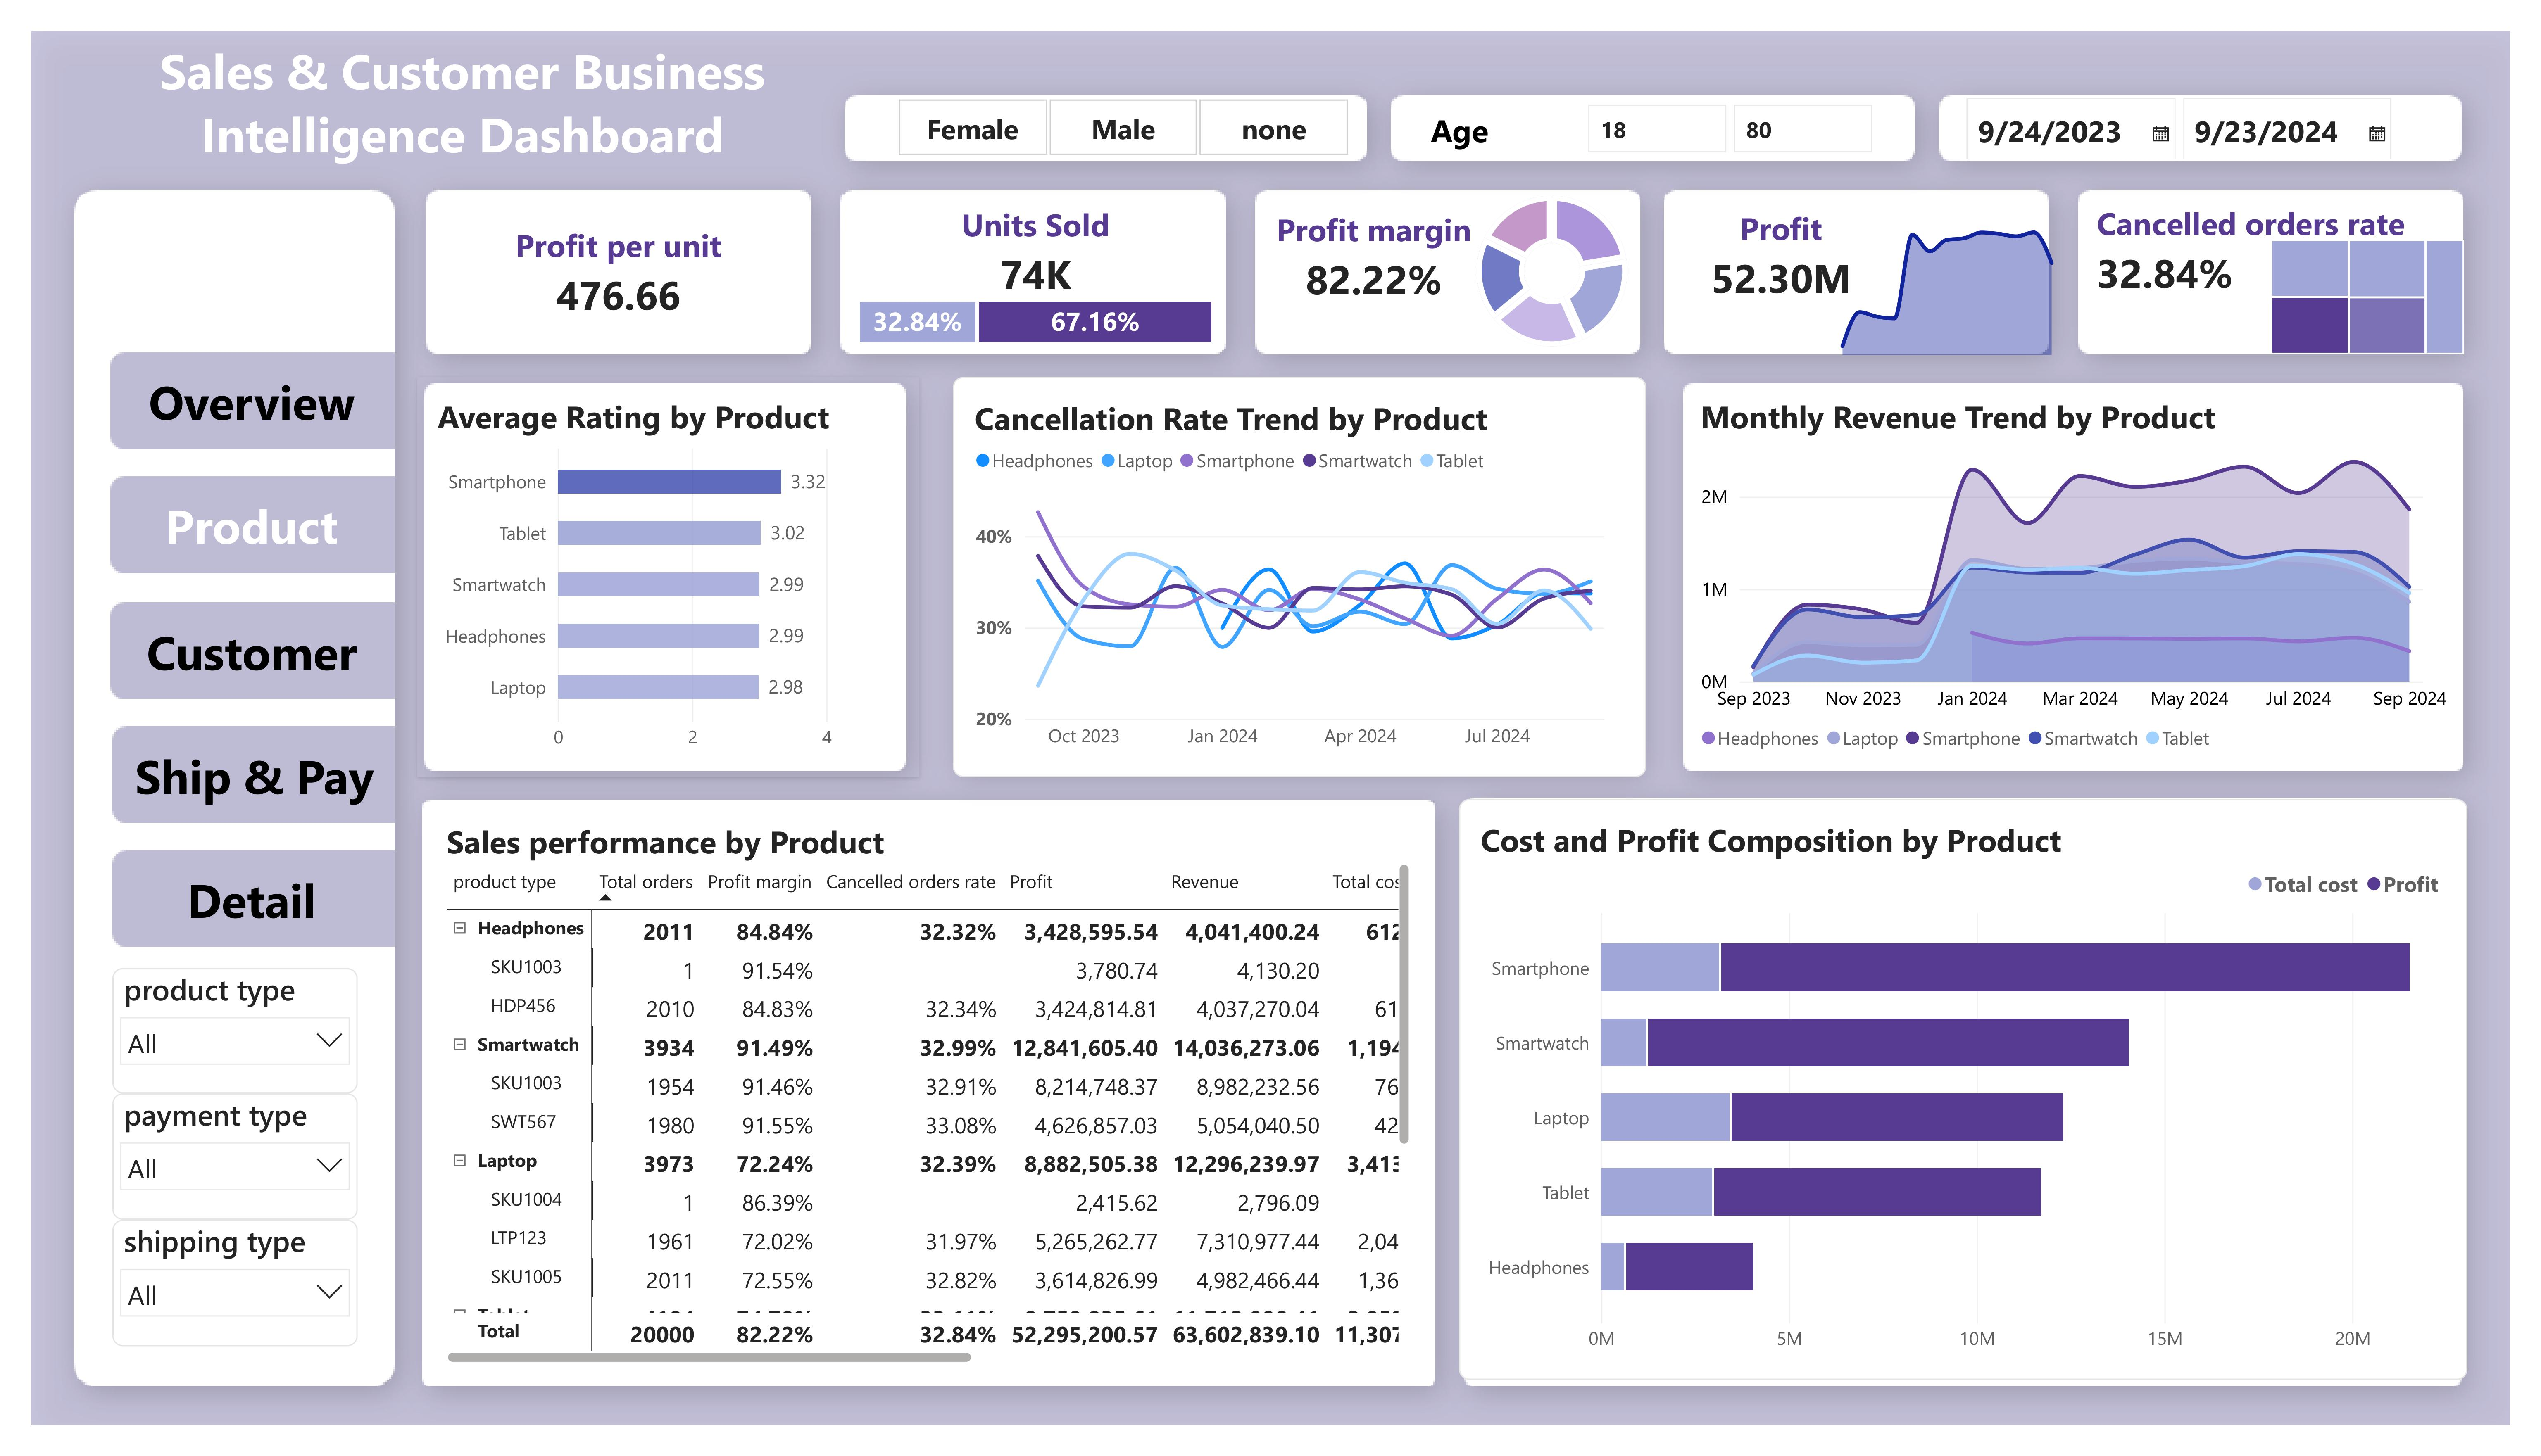

The dashboard page shown, as its layout file describes it:
{"tool":"powerbi","page":{"name":"Product Performance","canvas":[1920,1080],"ordinal":1},"visuals":[{"type":"textbox","box":[41.9,5.2,584.6,106],"z":0},{"type":"cardVisual","fields":{"Data":["*Measure.Profit per unit"]},"box":[350.6,130.8,208.1,110.4],"z":1000},{"type":"cardVisual","fields":{"Data":["*Measure.Unit Sold"]},"box":[670.3,124.7,215.3,90.5],"z":2000},{"type":"cardVisual","fields":{"Data":["*Measure.Profit margin"]},"box":[922.7,123.8,233.8,101.3],"z":3000},{"type":"cardVisual","fields":{"Data":["*Measure.M_profit"]},"box":[1250.6,129.1,209.3,89],"z":4000},{"type":"barChart","title":"Average Rating by Product","fields":{"Category":["dim_product.product type"],"Y":["Avg(fact_order.rating)"]},"box":[298.7,268.4,389.5,309.5],"z":5000},{"type":"lineChart","title":"Cancellation Rate Trend by Product","fields":{"Category":["dim_calendar.Start of Month"],"Series":["dim_product.product type"],"Y":["*Measure.M_cancelled orders rate"]},"box":[714.2,268.4,536.7,309.5],"z":6000},{"type":"lineChart","title":"Monthly Revenue Trend by Product","fields":{"Category":["dim_calendar.Date.Variation.Date Hierarchy.Year","dim_calendar.Date.Variation.Date Hierarchy.Quarter","dim_calendar.Date.Variation.Date Hierarchy.Month"],"Series":["dim_product.product type"],"Y":["*Measure.M_revenue1"]},"box":[1276.8,268.4,610.3,309.5],"z":7000},{"type":"barChart","title":"Cost and Profit Composition by Product","fields":{"Category":["dim_product.product type"],"Y":["*Measure.M_cost1","*Measure.M_profit"]},"box":[1105.9,595.1,781.3,450.1],"z":8000},{"type":"cardVisual","fields":{"Data":["*Measure.M_cancelled orders rate"]},"box":[1576.7,123.8,286,90.7],"z":9000},{"type":"actionButton","box":[76,255.2,190,63.3],"z":10000},{"type":"actionButton","box":[76,351.1,190,63.3],"z":11000},{"type":"actionButton","box":[76,448.8,190,63.3],"z":12000},{"type":"actionButton","box":[62.8,544.2,219.8,64.5],"z":13000},{"type":"slicer","fields":{"Values":["dim_calendar.Date"]},"box":[1491.2,47.1,371,52],"z":14000},{"type":"slicer","fields":{"Values":["dim_product.product type"]},"box":[63.3,725.7,190,97.7],"z":15000},{"type":"slicer","fields":{"Values":["dim_payment.payment type"]},"box":[63.3,823.4,190,97.7],"z":16000},{"type":"slicer","fields":{"Values":["dim_shipping.shipping type"]},"box":[63.3,921.1,190,97.7],"z":17000},{"type":"lineChart","title":"Average of rating over time","fields":{"Category":["dim_calendar.Date.Variation.Date Hierarchy.Year","dim_calendar.Date.Variation.Date Hierarchy.Quarter","dim_calendar.Date.Variation.Date Hierarchy.Month"],"Y":["*Measure.M_profit"]},"box":[1377.2,124.9,213.5,143],"z":19000},{"type":"hundredPercentStackedBarChart","fields":{"Series":["fact_order.Status"],"Y":["*Measure.M_count orders"]},"box":[626.1,148.4,304,150.2],"z":20000},{"type":"donutChart","fields":{"Category":["dim_product.product type"],"Y":["*Measure.M_profit margin"]},"box":[1065.7,99.4,224.4,175.5],"z":21000},{"type":"treemap","fields":{"Group":["dim_product.product type"],"Values":["*Measure.M_cancelled orders rate"]},"box":[1719.2,148.4,181,117.6],"z":22000},{"type":"slicer","fields":{"Values":["dim_customer.age"]},"box":[1198,52.5,244.3,41.6],"z":23000},{"type":"textbox","box":[1084,59.7,74.2,34.4],"z":24000},{"type":"slicer","fields":{"Values":["dim_customer.gender"]},"box":[651.5,50.7,387.3,47],"z":25000},{"type":"pivotTable","title":"Sales performance by Product","fields":{"Rows":["dim_product.product type","dim_product.sku"],"Values":["*Measure.M_count orders","*Measure.M_profit margin","*Measure.M_cancelled orders rate","*Measure.M_profit","*Measure.M_revenue1","*Measure.M_cost1","*Measure.M_profit per product unit","*Measure.M_cost per unit","SparklineData(*Measure.M_count orders_[dim_calendar.Start of Month])"]},"box":[305.8,597.2,778.2,450.6],"z":26000},{"type":"actionButton","box":[76,640.6,190,63.3],"z":27000}]}

Visuals, with their boxes on the page's 1920x1080 design canvas (x1, y1, x2, y2). These are canvas units, not pixel positions in the 2541x1456 screenshot, which may show the page scaled, cropped or inside an application window:
textbox: <region>42, 5, 626, 111</region>
cardVisual - *Measure.Profit per unit: <region>351, 131, 559, 241</region>
cardVisual - *Measure.Unit Sold: <region>670, 125, 886, 215</region>
cardVisual - *Measure.Profit margin: <region>923, 124, 1156, 225</region>
cardVisual - *Measure.M_profit: <region>1251, 129, 1460, 218</region>
"Average Rating by Product" barChart: <region>299, 268, 688, 578</region>
"Cancellation Rate Trend by Product" lineChart: <region>714, 268, 1251, 578</region>
"Monthly Revenue Trend by Product" lineChart: <region>1277, 268, 1887, 578</region>
"Cost and Profit Composition by Product" barChart: <region>1106, 595, 1887, 1045</region>
cardVisual - *Measure.M_cancelled orders rate: <region>1577, 124, 1863, 214</region>
actionButton: <region>76, 255, 266, 318</region>
actionButton: <region>76, 351, 266, 414</region>
actionButton: <region>76, 449, 266, 512</region>
actionButton: <region>63, 544, 283, 609</region>
slicer - dim_calendar.Date: <region>1491, 47, 1862, 99</region>
slicer - dim_product.product type: <region>63, 726, 253, 823</region>
slicer - dim_payment.payment type: <region>63, 823, 253, 921</region>
slicer - dim_shipping.shipping type: <region>63, 921, 253, 1019</region>
"Average of rating over time" lineChart: <region>1377, 125, 1591, 268</region>
hundredPercentStackedBarChart - fact_order.Status x *Measure.M_count orders: <region>626, 148, 930, 299</region>
donutChart - dim_product.product type x *Measure.M_profit margin: <region>1066, 99, 1290, 275</region>
treemap - dim_product.product type x *Measure.M_cancelled orders rate: <region>1719, 148, 1900, 266</region>
slicer - dim_customer.age: <region>1198, 52, 1442, 94</region>
textbox: <region>1084, 60, 1158, 94</region>
slicer - dim_customer.gender: <region>652, 51, 1039, 98</region>
"Sales performance by Product" pivotTable: <region>306, 597, 1084, 1048</region>
actionButton: <region>76, 641, 266, 704</region>
